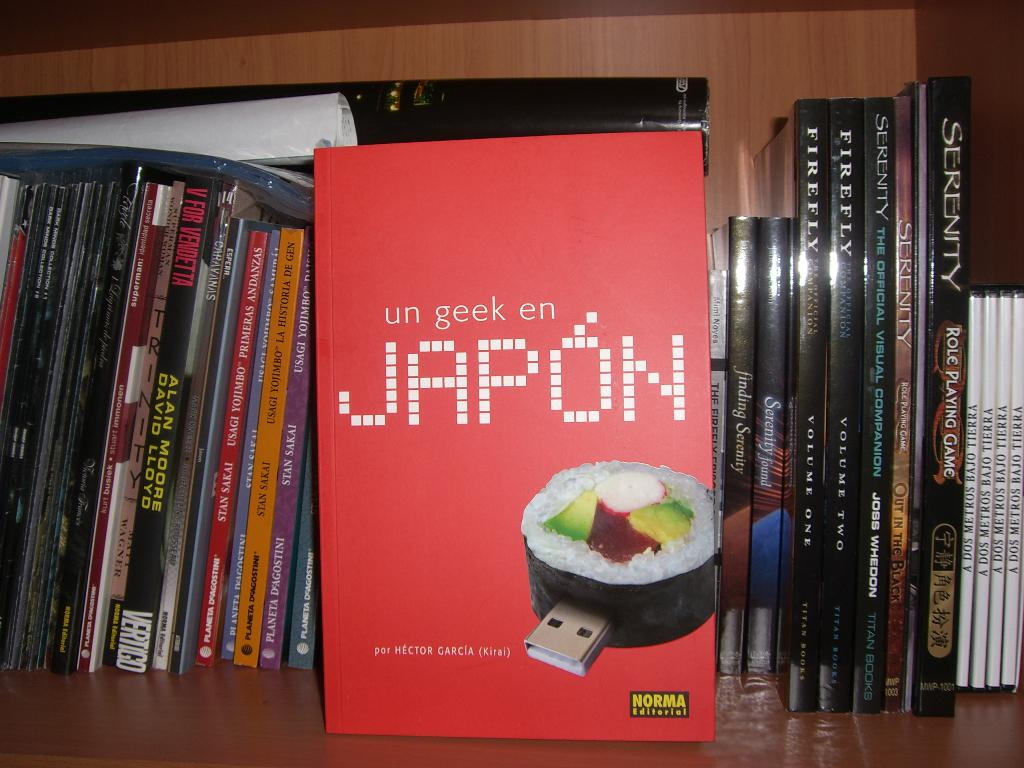sushi: (529, 476, 714, 643)
